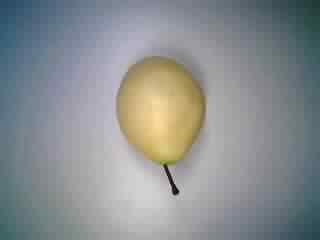pear: (109, 46, 213, 203)
